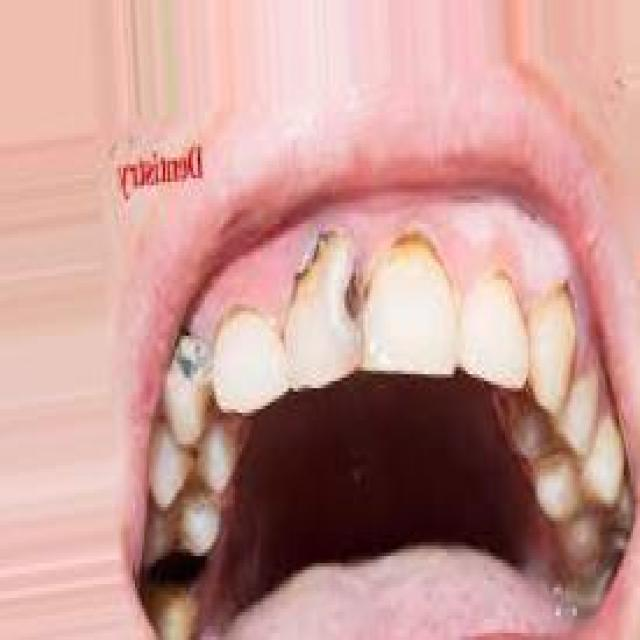caries: (284, 222, 370, 363), (160, 320, 233, 415)
